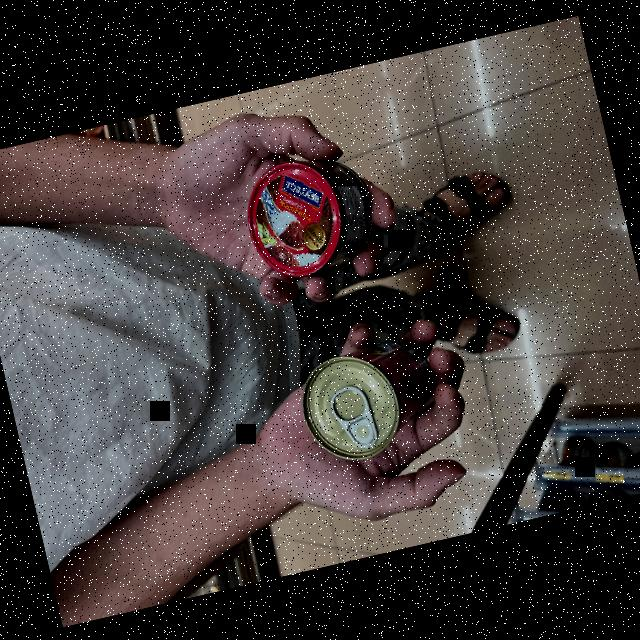can: (270, 310, 463, 485), (226, 136, 386, 296)
